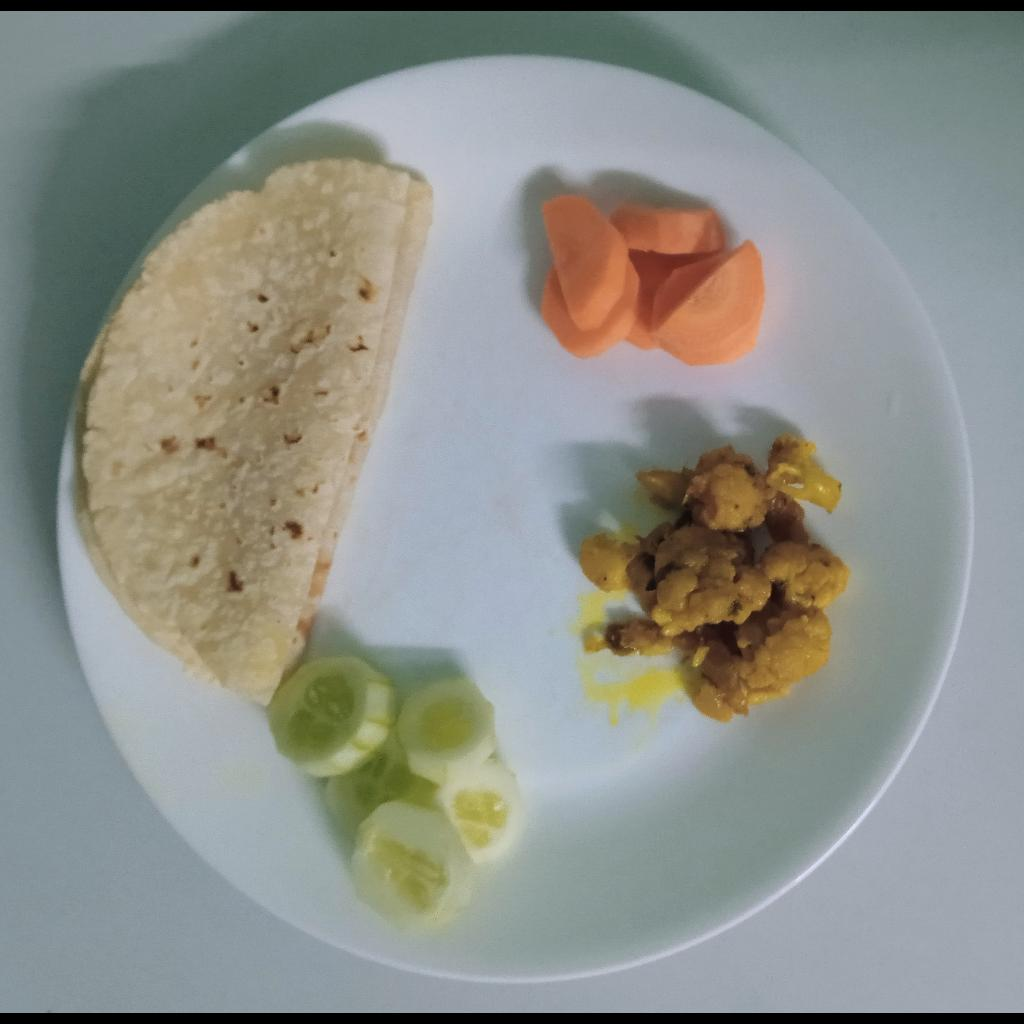carrot: (539, 196, 767, 367)
cauliflower: (584, 435, 849, 726)
cucumber: (265, 655, 523, 936)
ruti: (71, 159, 431, 709)
